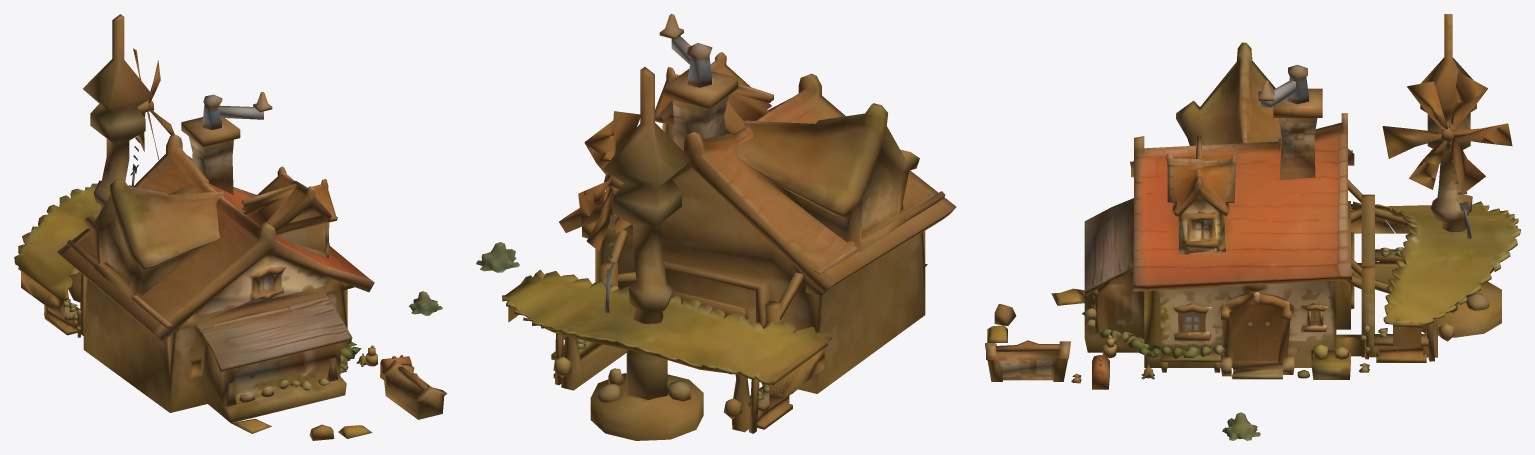
Rendered from house.fbx.
3 renders of one model, left to right at view 1: azimuth 30°, elevation 25°; view 2: azimuth 150°, elevation 25°; view 3: azimuth 270°, elevation 25°, orthographic. The views are drawn at different scales.
Parts seen in each view (by area): view 1: tripo_node_a250cf65; view 2: tripo_node_a250cf65; view 3: tripo_node_a250cf65.
Part boxes in pixels (<box>): tripo_node_a250cf65: <box>14,14,447,440</box>; tripo_node_a250cf65: <box>476,14,956,440</box>; tripo_node_a250cf65: <box>985,14,1520,440</box>.
Bounding box in the file's own units: 0.791 × 0.6309 × 0.998.
1 material, 1 textured.
